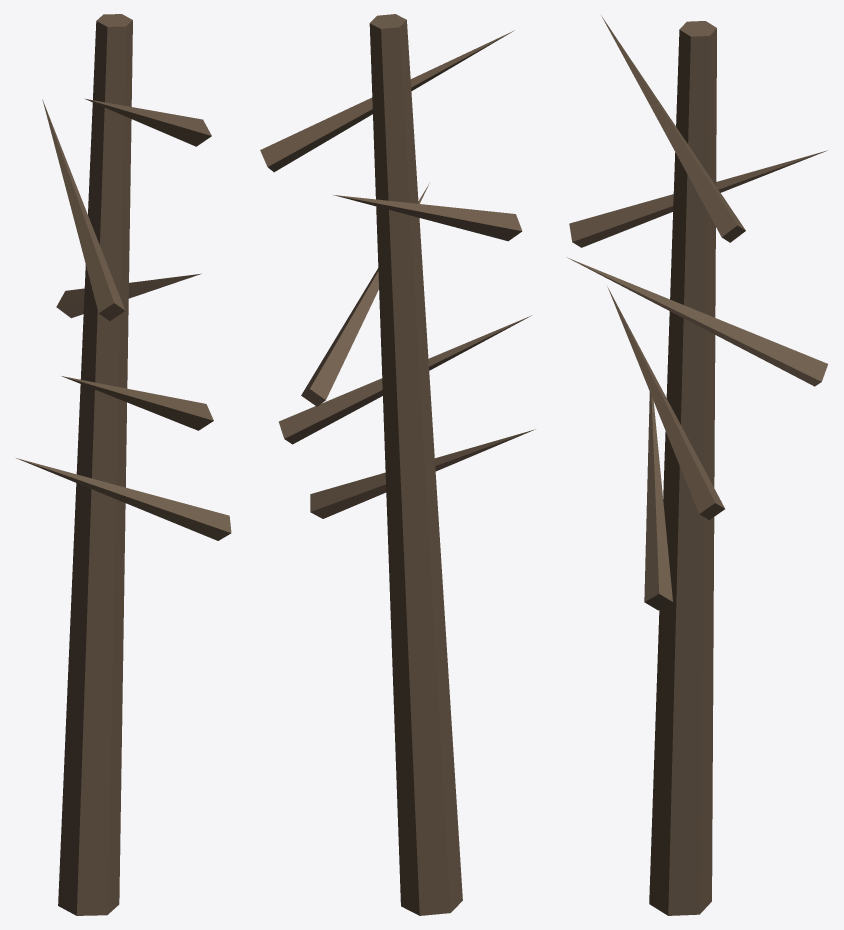
3 renders of one model, left to right at view 1: azimuth 30°, elevation 25°; view 2: azimuth 150°, elevation 25°; view 3: azimuth 270°, elevation 25°, orthographic. The views are drawn at different scales.
Parts seen in each view (by area): view 1: Tree; view 2: Tree; view 3: Tree.
Boxes of the visible parts, <box> form: Tree: <box>16,14,231,915</box>; Tree: <box>260,14,535,915</box>; Tree: <box>566,15,827,915</box>.
Size of the model in its own units: 95.51 by 342 by 91.76.
